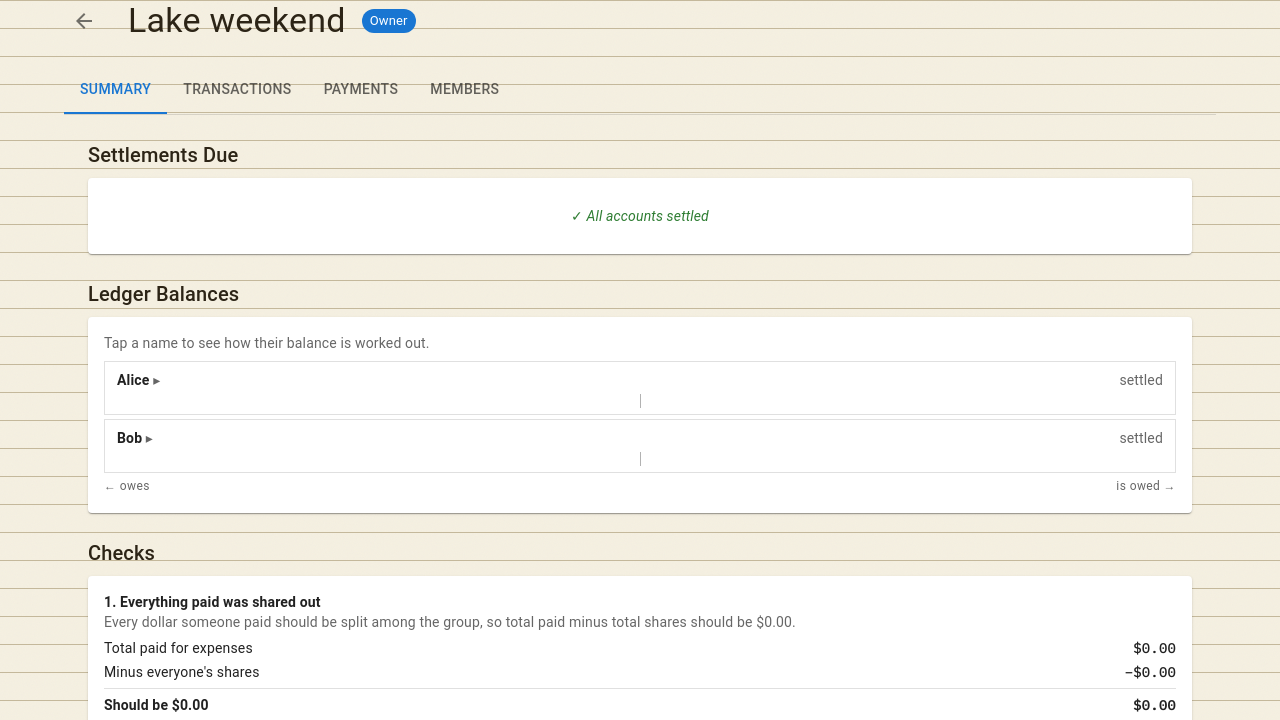
Test case: GroupDetails tabs › lists members and the Add Member button on the Members tab
The image size is (1280, 720).
Click the tab "Members": (465, 90) [414, 66, 516, 114]
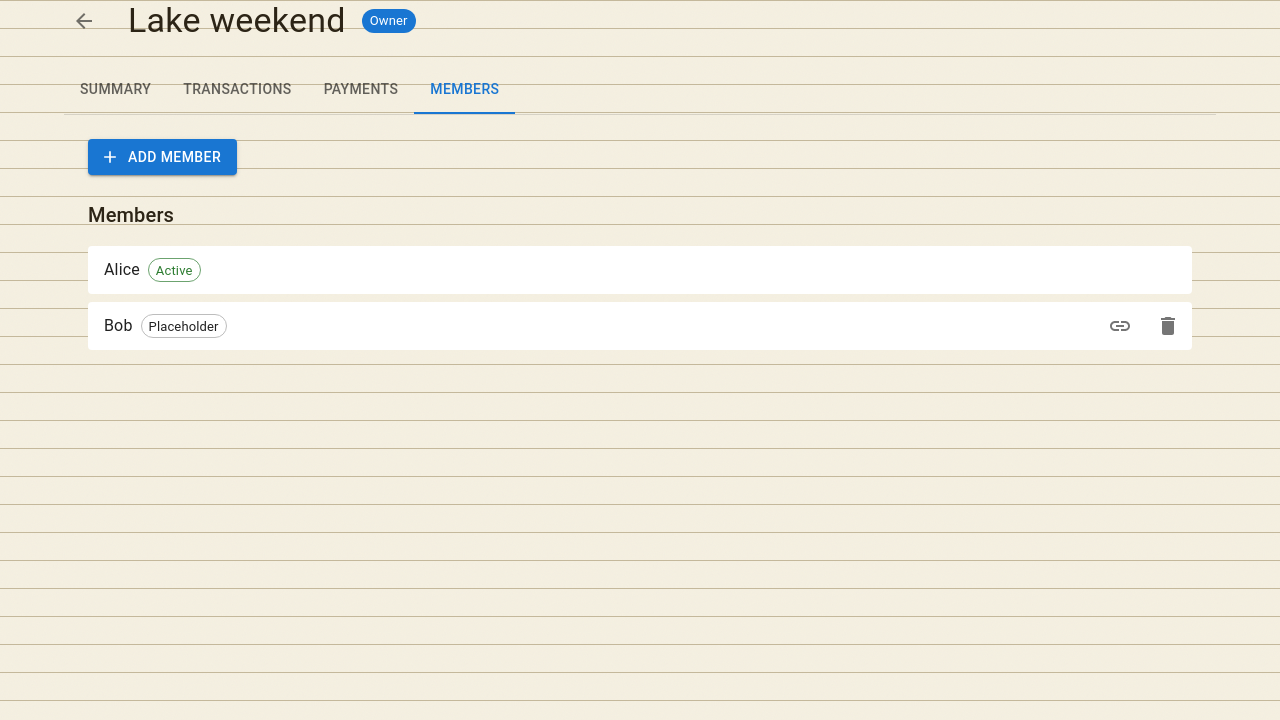
Check: the text "Alice" is shown, box [104, 260, 140, 280]
Check: the text "Bob" is shown, box [104, 316, 132, 336]
Check: the button "Add Member" is shown, box [88, 139, 237, 176]
